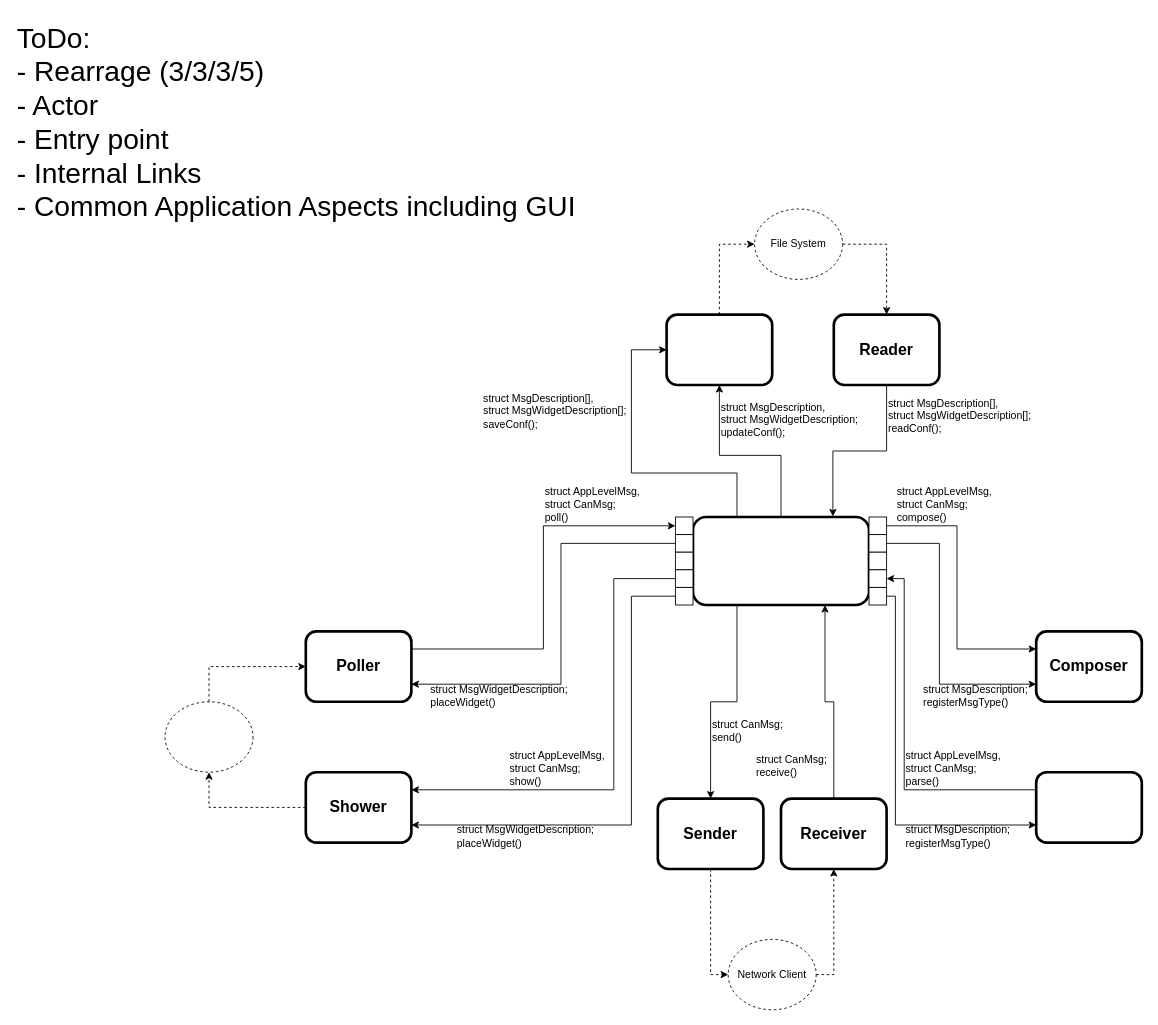
Some shapes in this 1158 by 1025 pixel diagram are drawn without their labels. Each missing label, with the centre of its shape:
GUI Framewrok: point (208, 736)
Manager: point (780, 560)
Parser: point (1088, 806)
Writer: point (719, 349)
